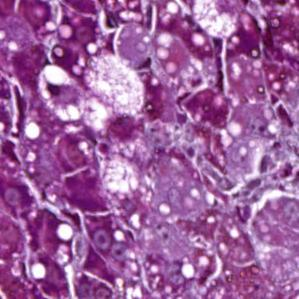ballooning: (36, 64, 87, 124)
